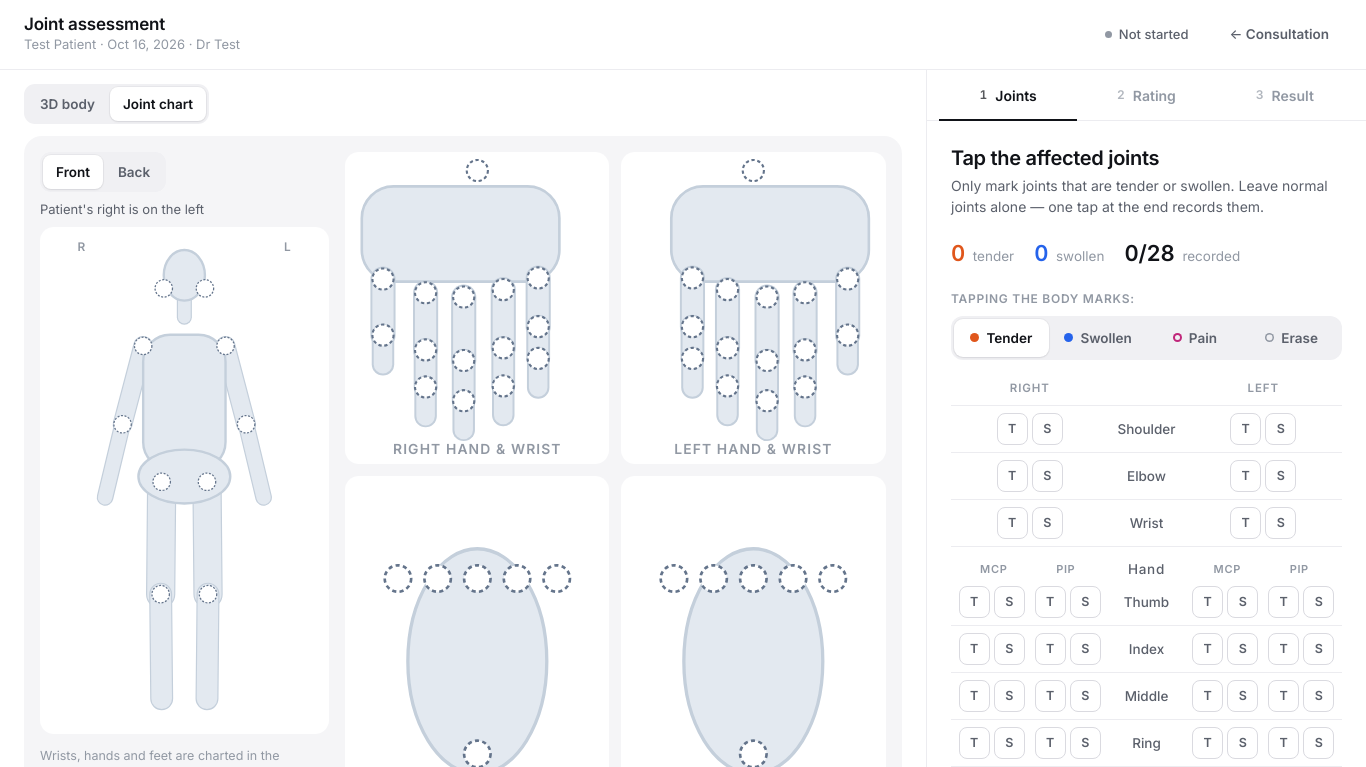
quick joint examination: tap only the affected joints › shows no score until everything is entered
Expected: the text with test id "assessment-status" does not show "Loading", [1105, 25, 1188, 44]
Click the button "3 Result".
click(1285, 95)  # box [1216, 70, 1354, 121]
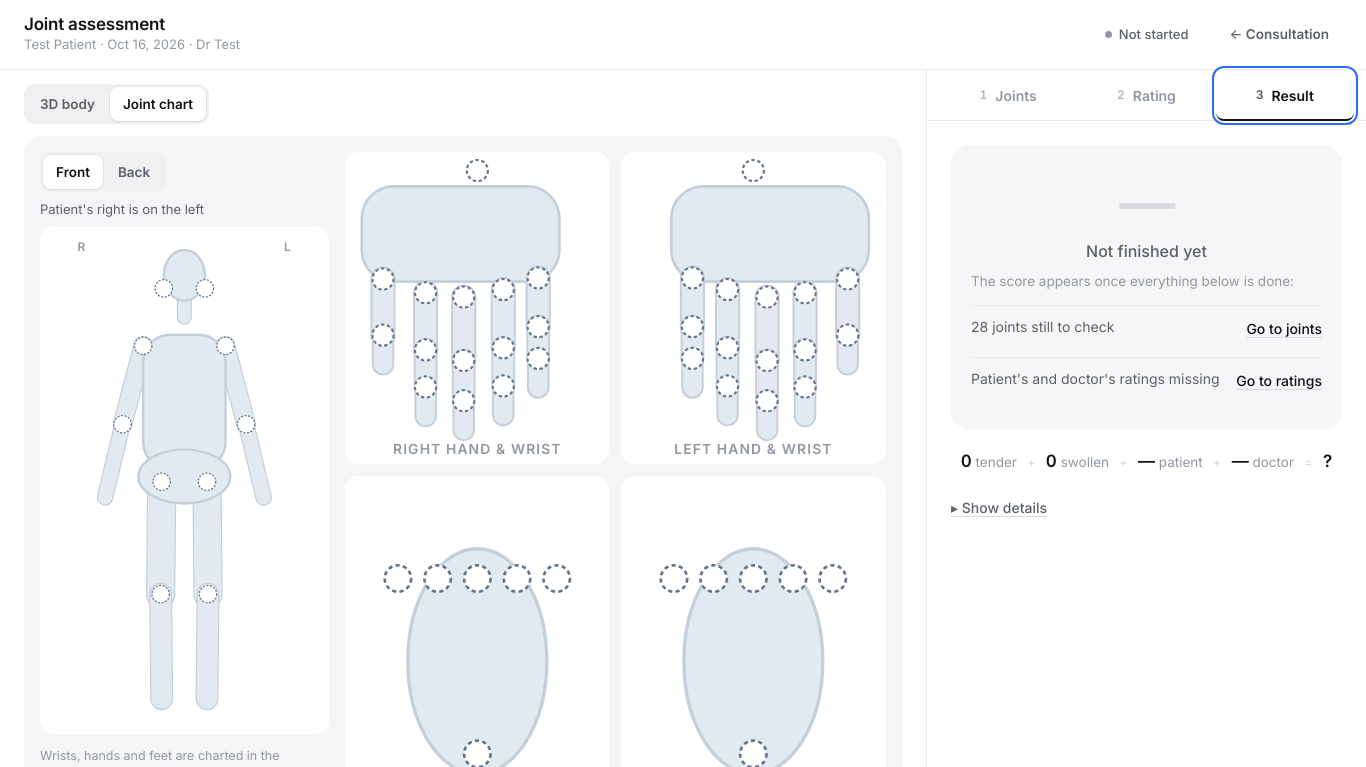
Expected: the text with test id "cdai-score" reads "—", [1120, 169, 1173, 237]
Expected: the text with test id "cdai-category" reads "Not finished yet", [1086, 241, 1207, 261]
